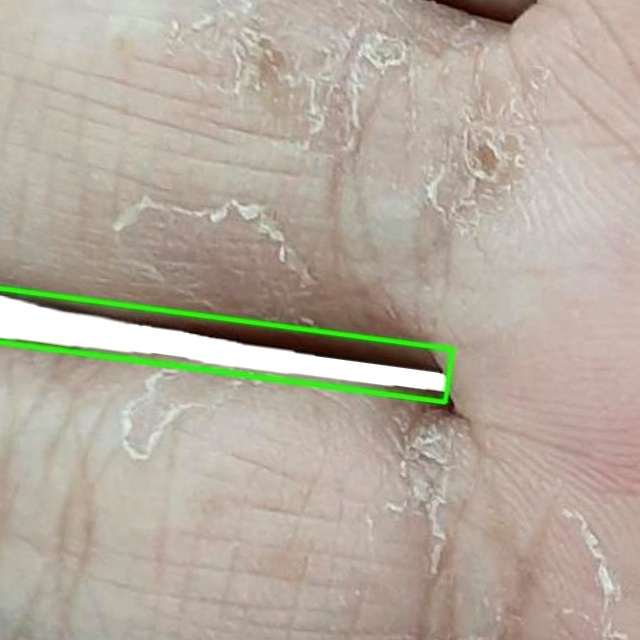Atopic Dermatitis: (0, 288, 452, 402)
